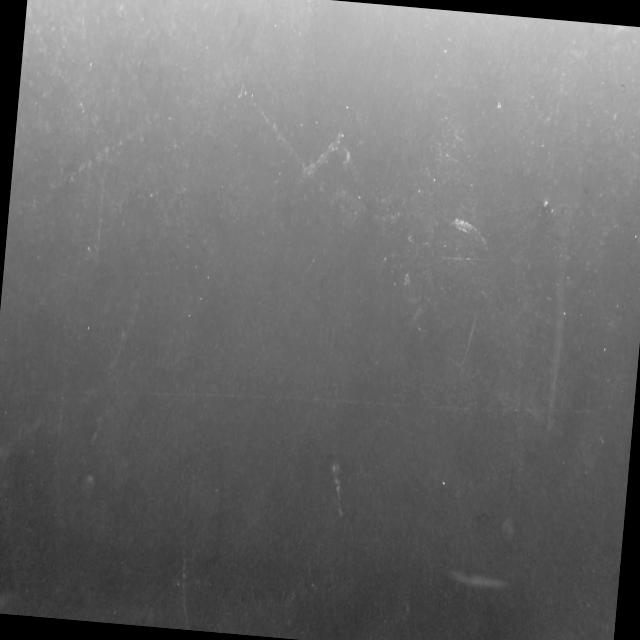beta: (6, 106, 150, 250), (17, 0, 98, 117), (243, 100, 329, 194), (44, 327, 81, 528), (542, 241, 574, 429), (0, 410, 46, 497), (172, 539, 200, 630), (112, 288, 142, 371), (549, 39, 567, 149), (326, 450, 350, 526), (454, 315, 478, 374)
